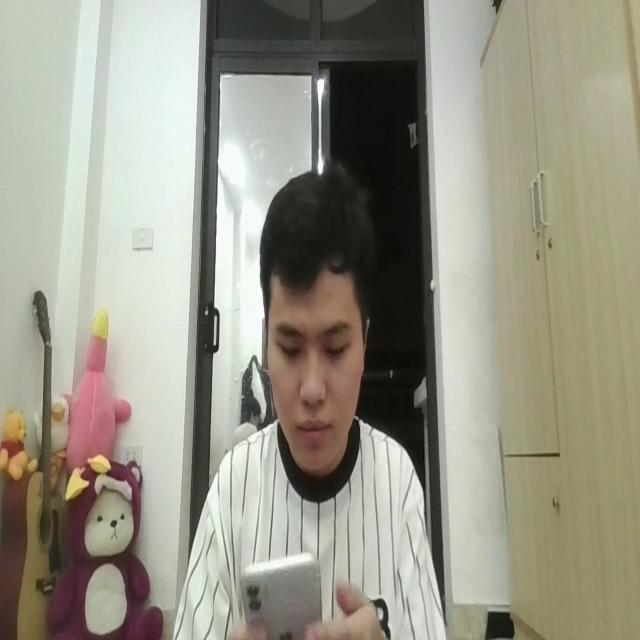phone: (240, 546, 323, 640)
student: (177, 159, 446, 640)
